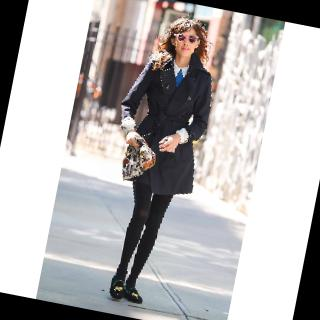loafers: (103, 272, 148, 308)
